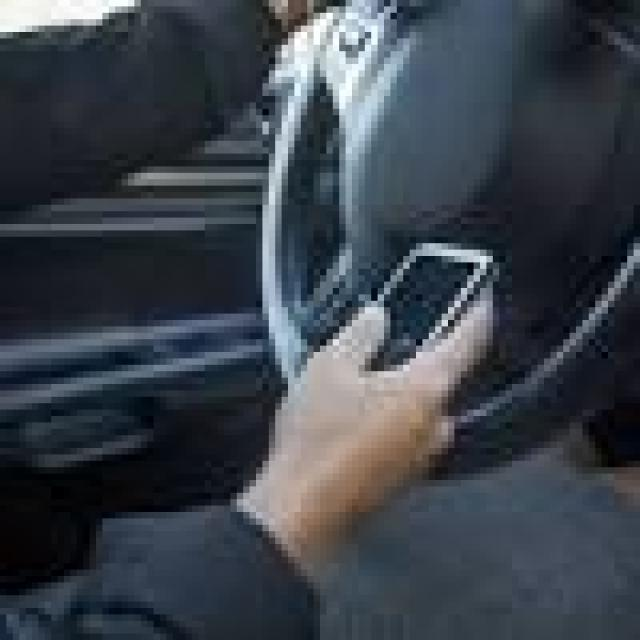Cellphone_texting: (262, 230, 512, 550)
